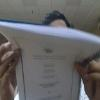notebook: (0, 19, 99, 99)
